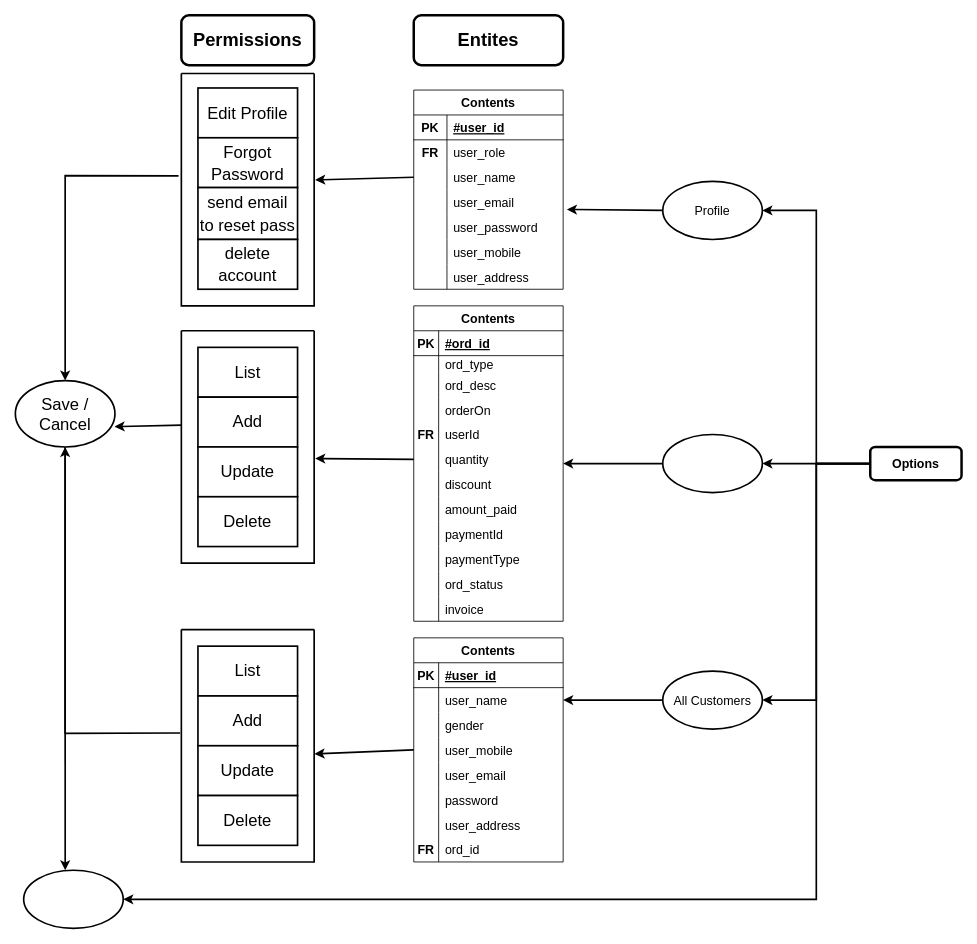
Image size: 977x944. Some labels were removed from this diagram. The centre of each missing label's shape, as x and y in pixels:
All Orders: the point at 712,463
Logout: the point at 73,899
